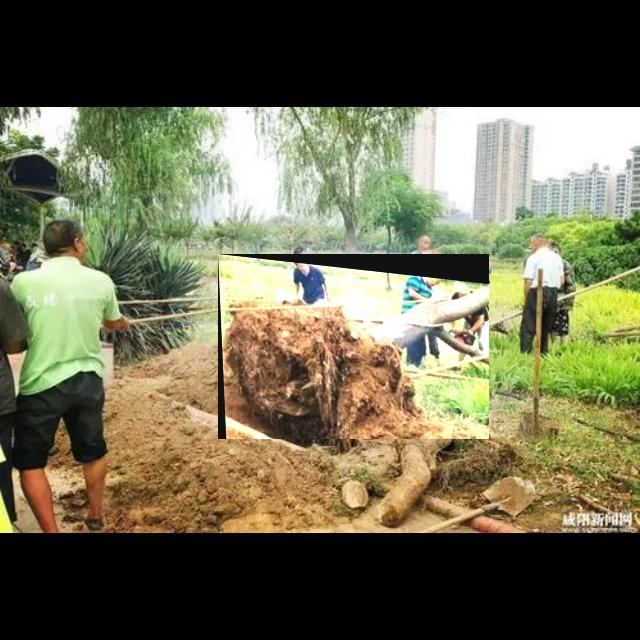fallen_tree: (218, 254, 490, 440)
